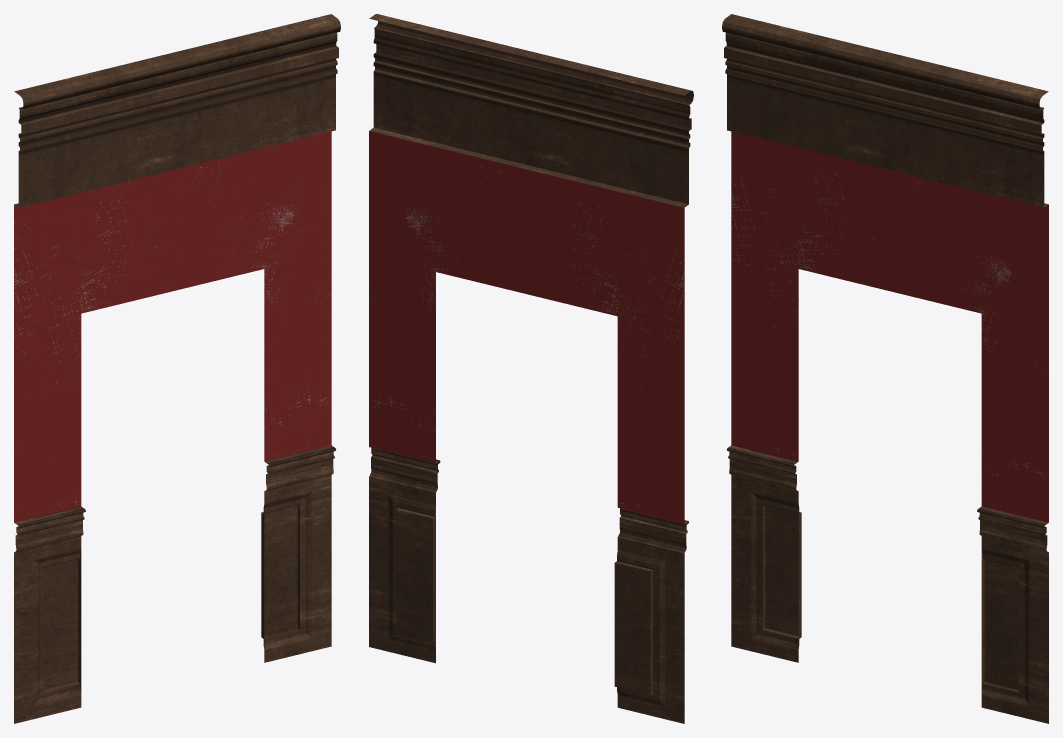
The model's file is SM_Wall_1_001.fbx.
The picture shows the model from 3 angles, left to right: view 1: azimuth 30°, elevation 25°; view 2: azimuth 150°, elevation 25°; view 3: azimuth 330°, elevation 25°; orthographic projection.
Parts seen in each view (by area): view 1: cheminé:cheminé:mur_porte_1; view 2: cheminé:cheminé:mur_porte_1; view 3: cheminé:cheminé:mur_porte_1.
Part boxes in pixels (x1,y1,x2,y2): cheminé:cheminé:mur_porte_1: (14, 14, 340, 723); cheminé:cheminé:mur_porte_1: (369, 14, 693, 723); cheminé:cheminé:mur_porte_1: (722, 14, 1048, 723).
Size of the model in its own units: 294 by 560 by 19.99.
